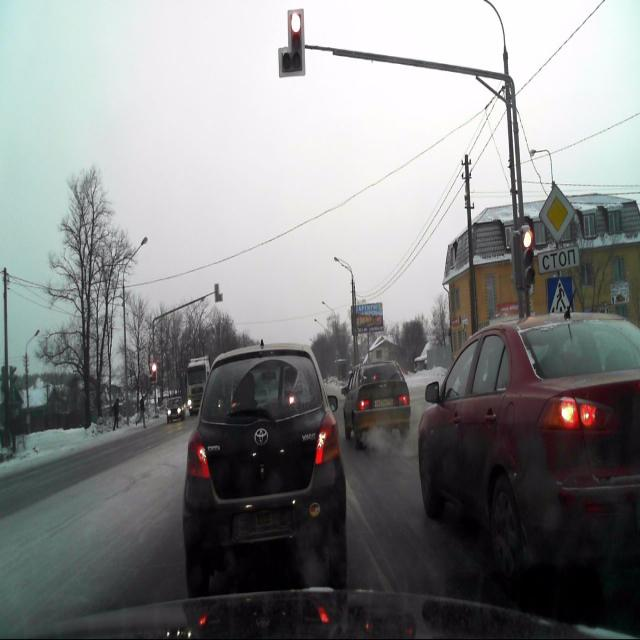road sign: (540, 185, 574, 244), (546, 275, 575, 321), (538, 244, 579, 271)
